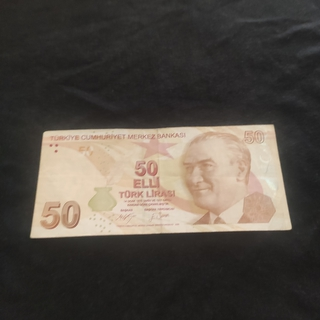50TLFront: (30, 123, 292, 239)
